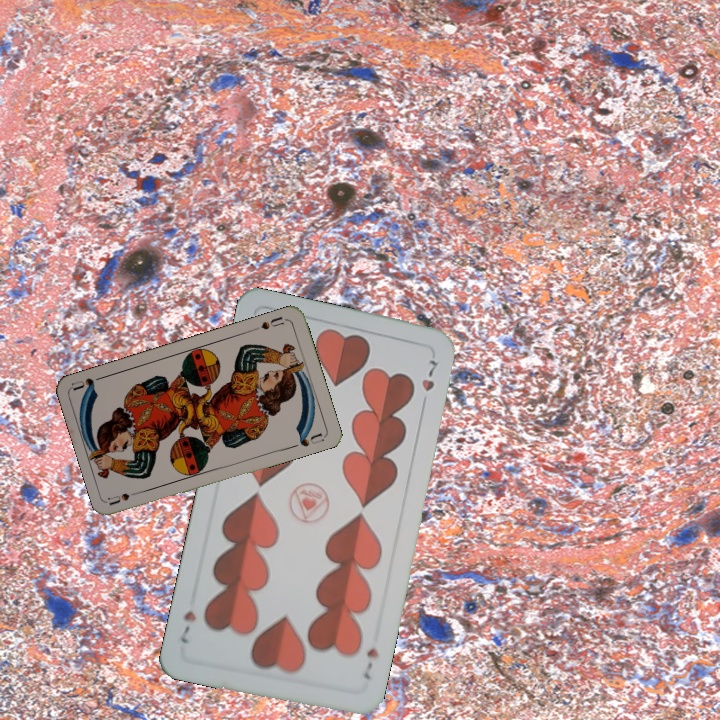H7: (359, 643, 381, 682)
SU: (105, 487, 146, 508), (250, 312, 289, 333)
